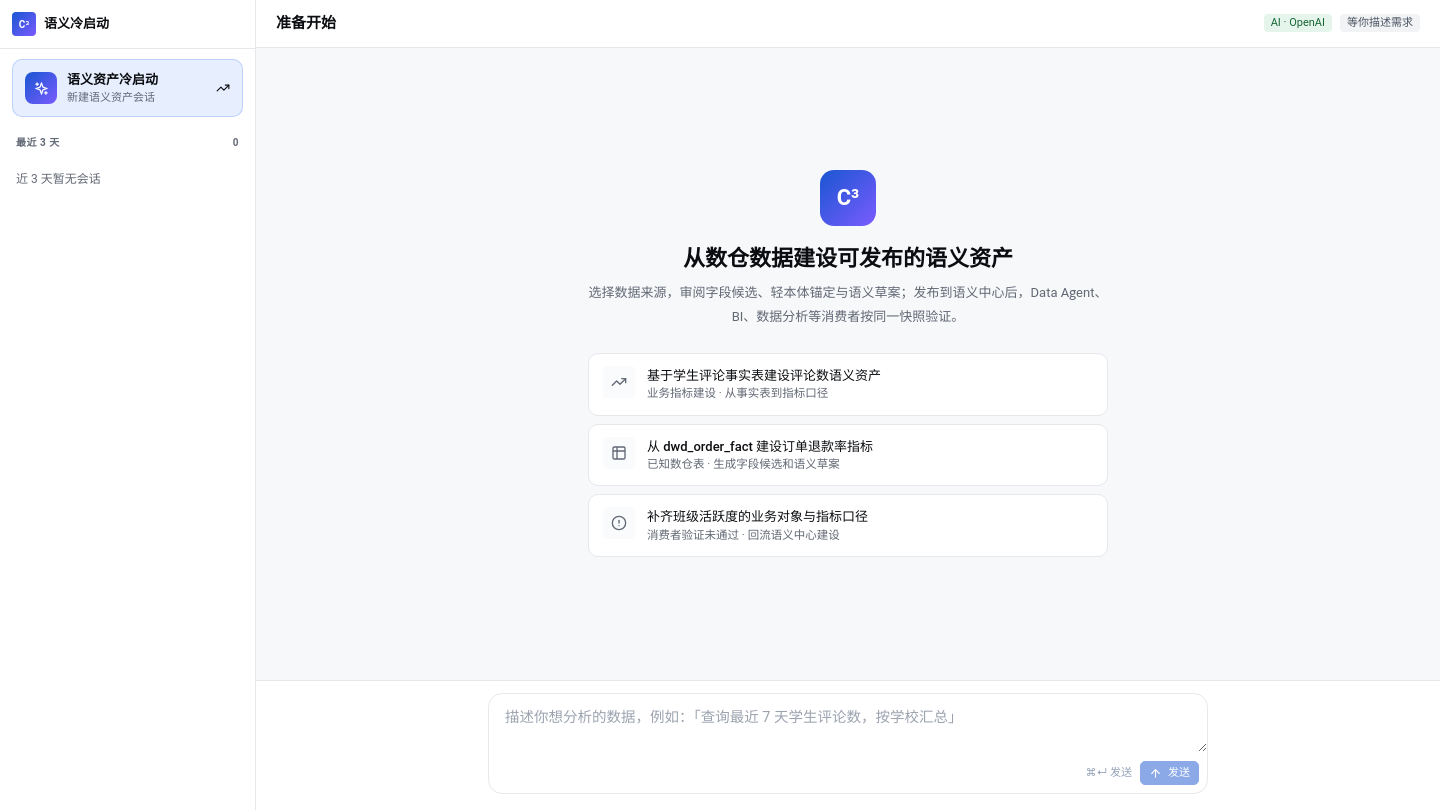
Test case: ModelingAgent · 保存与发布链路 › 权限不足时给出业务化中文错误
The image size is (1440, 810).
Type "查询最近7天学生评论数，按学校汇总" into the text box named "建模目标" at (848, 722), box [489,694,1207,752]
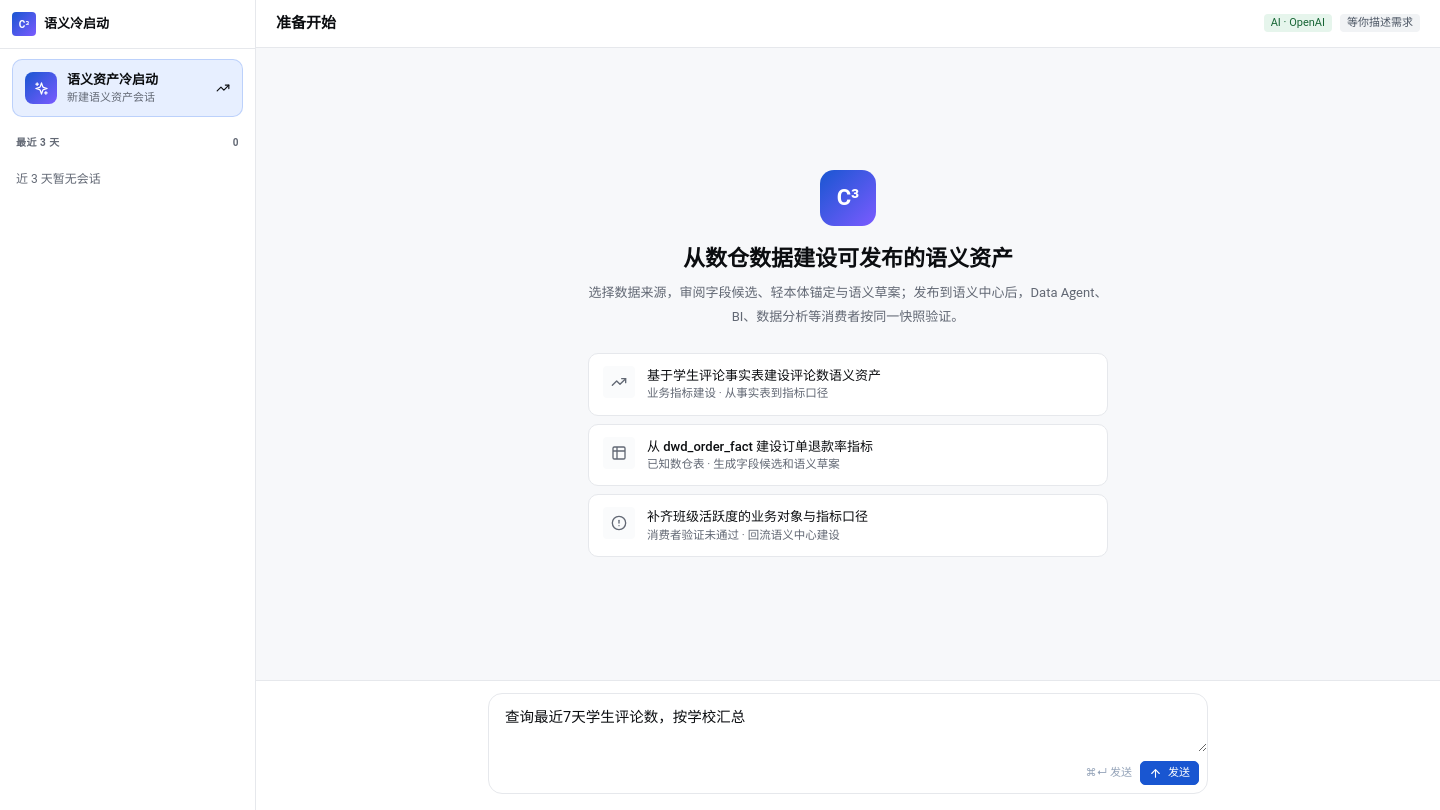
Click the button "发送" at (1170, 773), box [1140,761,1199,785]
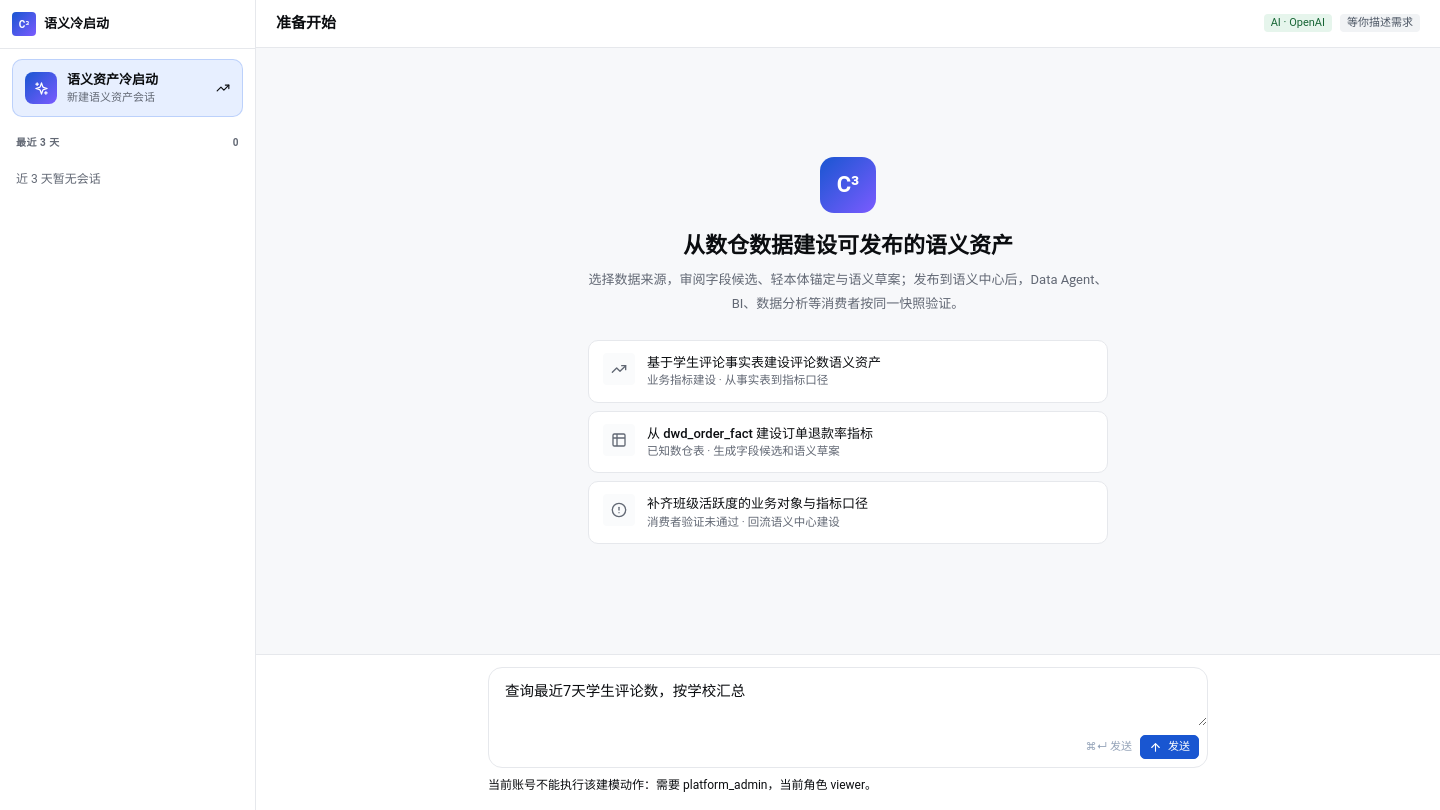
Result: the text "当前账号不能执行该建模动作：需要 platform_admin，当前角色 viewer。" is shown at [488,778,877,792]
